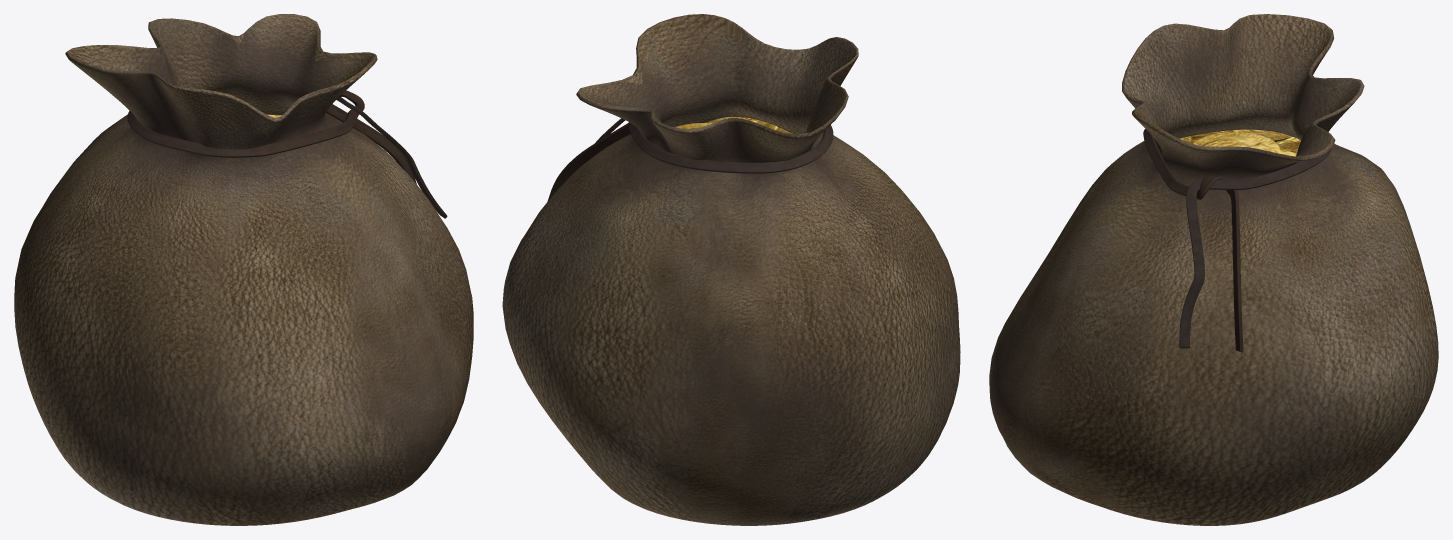
File: saca_piel.fbx
3 renders of one model, left to right at view 1: azimuth 30°, elevation 25°; view 2: azimuth 150°, elevation 25°; view 3: azimuth 270°, elevation 25°, orthographic. The views are drawn at different scales.
Visible parts, largest first — view 1: 13450_Bag_of_Gold_v1_L3; view 2: 13450_Bag_of_Gold_v1_L3; view 3: 13450_Bag_of_Gold_v1_L3.
Part boxes in pixels (x1,y1,x2,y2): 13450_Bag_of_Gold_v1_L3: (14,14,473,525); 13450_Bag_of_Gold_v1_L3: (502,14,960,525); 13450_Bag_of_Gold_v1_L3: (989,14,1438,525).
Bounding box in the file's own units: 112 × 112 × 107.
